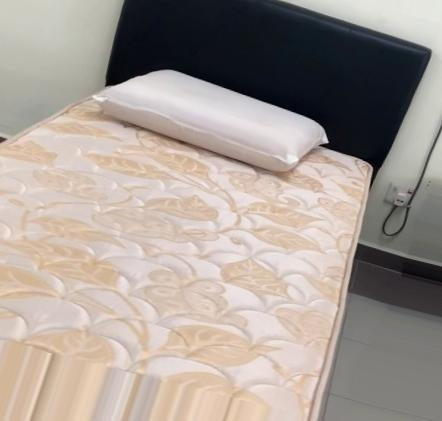bed: (0, 0, 425, 421)
